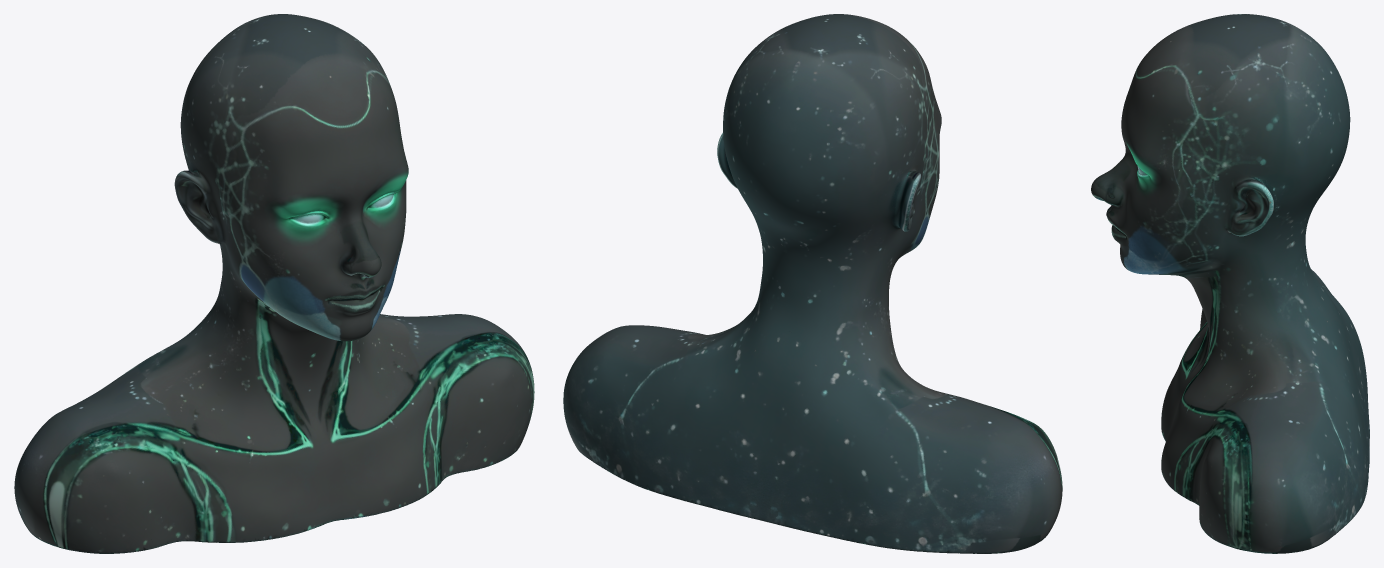
Rendered from head.glb.
3 renders of one model, left to right at view 1: azimuth 30°, elevation 25°; view 2: azimuth 150°, elevation 25°; view 3: azimuth 270°, elevation 25°, orthographic. The views are drawn at different scales.
Parts seen in each view (by area): view 1: Mesh_0; view 2: Mesh_0; view 3: Mesh_0.
Part boxes in pixels (x1=…): Mesh_0: x1=14, y1=14, x2=534, y2=553; Mesh_0: x1=563, y1=14, x2=1062, y2=553; Mesh_0: x1=1091, y1=14, x2=1369, y2=553.
Size of the model in its own units: 1.9 by 1.68 by 0.9984.
Materials: 1 (1 with a texture image).
